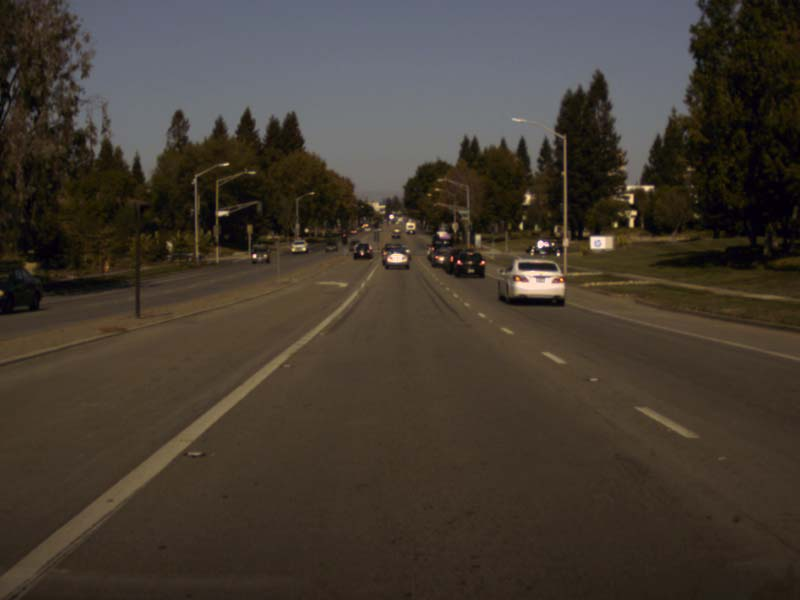Red: (341, 232, 346, 244), (433, 202, 436, 211)
